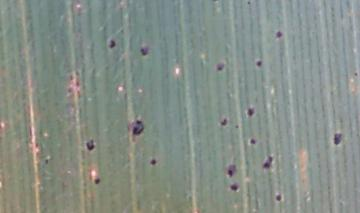tarspot: (131, 118, 146, 136), (225, 162, 238, 178), (332, 131, 344, 146), (262, 154, 273, 170), (84, 137, 96, 151), (139, 43, 149, 57), (213, 61, 225, 72), (228, 181, 240, 192), (75, 88, 83, 102), (246, 106, 255, 118), (274, 29, 283, 40), (108, 38, 116, 50), (274, 192, 283, 202), (149, 156, 157, 167), (93, 176, 101, 186), (254, 59, 262, 69), (248, 137, 256, 146), (66, 86, 74, 95), (74, 79, 82, 88), (43, 157, 50, 166), (220, 118, 227, 127), (73, 68, 80, 76), (232, 123, 239, 130), (352, 71, 359, 78), (34, 141, 40, 149), (68, 73, 73, 82), (246, 1, 251, 6)
